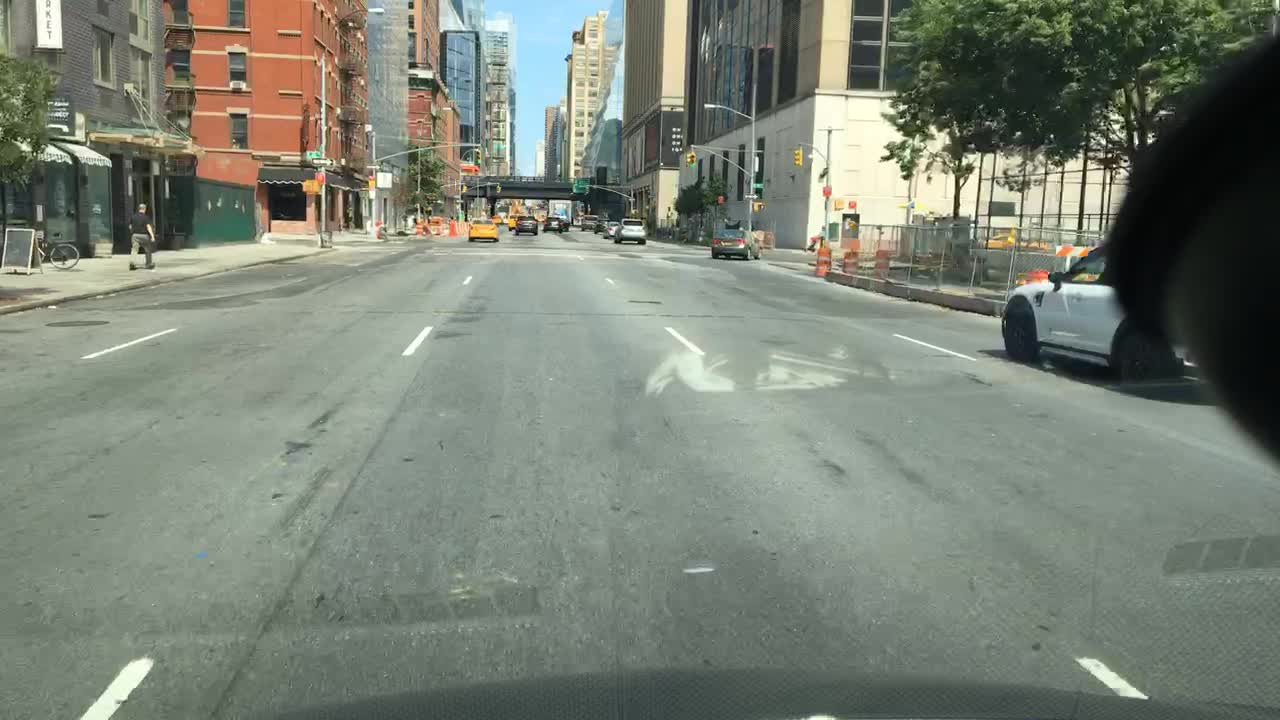bike: (30, 235, 82, 270)
car: (999, 241, 1201, 389), (710, 227, 761, 261), (467, 217, 499, 242), (616, 219, 647, 244), (514, 214, 540, 236), (600, 219, 618, 238), (543, 216, 561, 232), (593, 217, 609, 234), (580, 214, 598, 229), (506, 214, 521, 228), (560, 217, 570, 231), (490, 214, 502, 225)
person: (125, 201, 156, 272)
traffic light: (792, 143, 806, 169), (303, 180, 322, 195), (752, 202, 769, 213), (314, 169, 326, 183), (833, 197, 846, 209), (472, 150, 480, 168), (689, 152, 696, 168), (684, 152, 690, 168), (495, 184, 503, 195), (461, 183, 468, 194)
traffic sign: (1056, 245, 1090, 258), (988, 199, 1015, 215), (571, 177, 590, 194), (376, 172, 393, 187), (368, 176, 375, 199), (312, 158, 332, 166), (305, 151, 322, 158), (822, 184, 831, 197), (754, 155, 760, 172), (743, 193, 758, 198), (753, 183, 765, 188)
